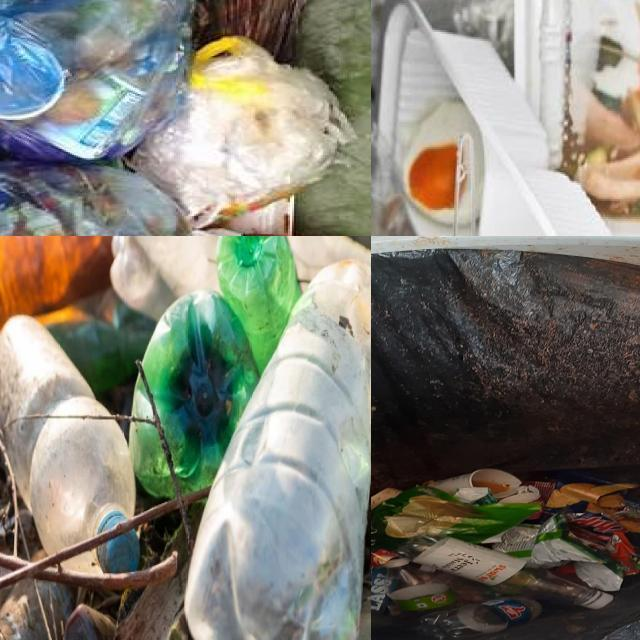Garbage: (0, 236, 371, 640), (371, 0, 640, 236), (371, 469, 640, 639)
Plastic: (65, 605, 116, 640)
Plastic_Bag: (131, 37, 356, 228), (194, 0, 307, 62), (286, 236, 371, 285)
Plastic_bottle: (185, 261, 371, 640), (0, 315, 135, 554), (142, 291, 258, 494), (397, 533, 612, 608), (38, 288, 156, 395), (217, 236, 300, 371), (0, 236, 113, 330), (110, 236, 176, 321), (417, 598, 543, 639), (384, 558, 460, 614), (128, 425, 174, 497), (67, 529, 139, 573), (132, 375, 151, 418)
Plastic_wraper: (371, 486, 543, 559), (493, 514, 605, 569), (566, 512, 640, 576), (576, 561, 622, 592), (453, 488, 496, 506), (523, 482, 556, 503), (529, 515, 539, 518), (576, 485, 582, 488)
Tetrapack: (371, 567, 394, 611)
contaminated_waste: (371, 0, 640, 236)
